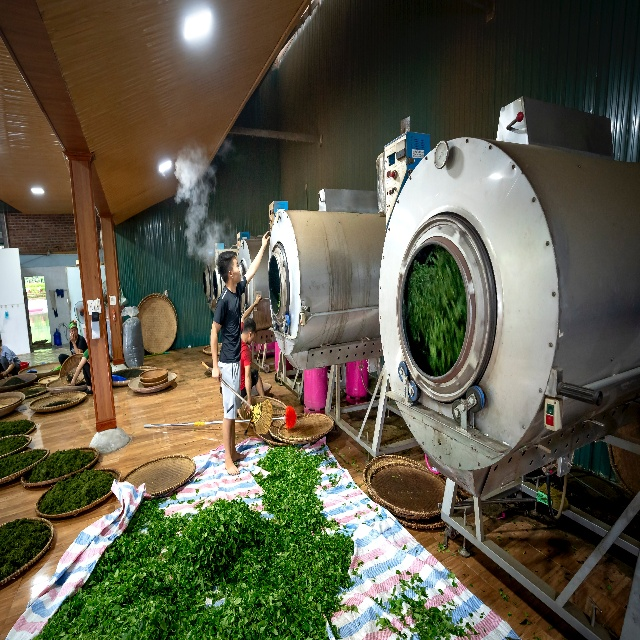Sin_guantes: (261, 230, 270, 248), (212, 365, 220, 383), (244, 400, 253, 415), (255, 292, 262, 305), (70, 332, 76, 343), (70, 376, 76, 386)
